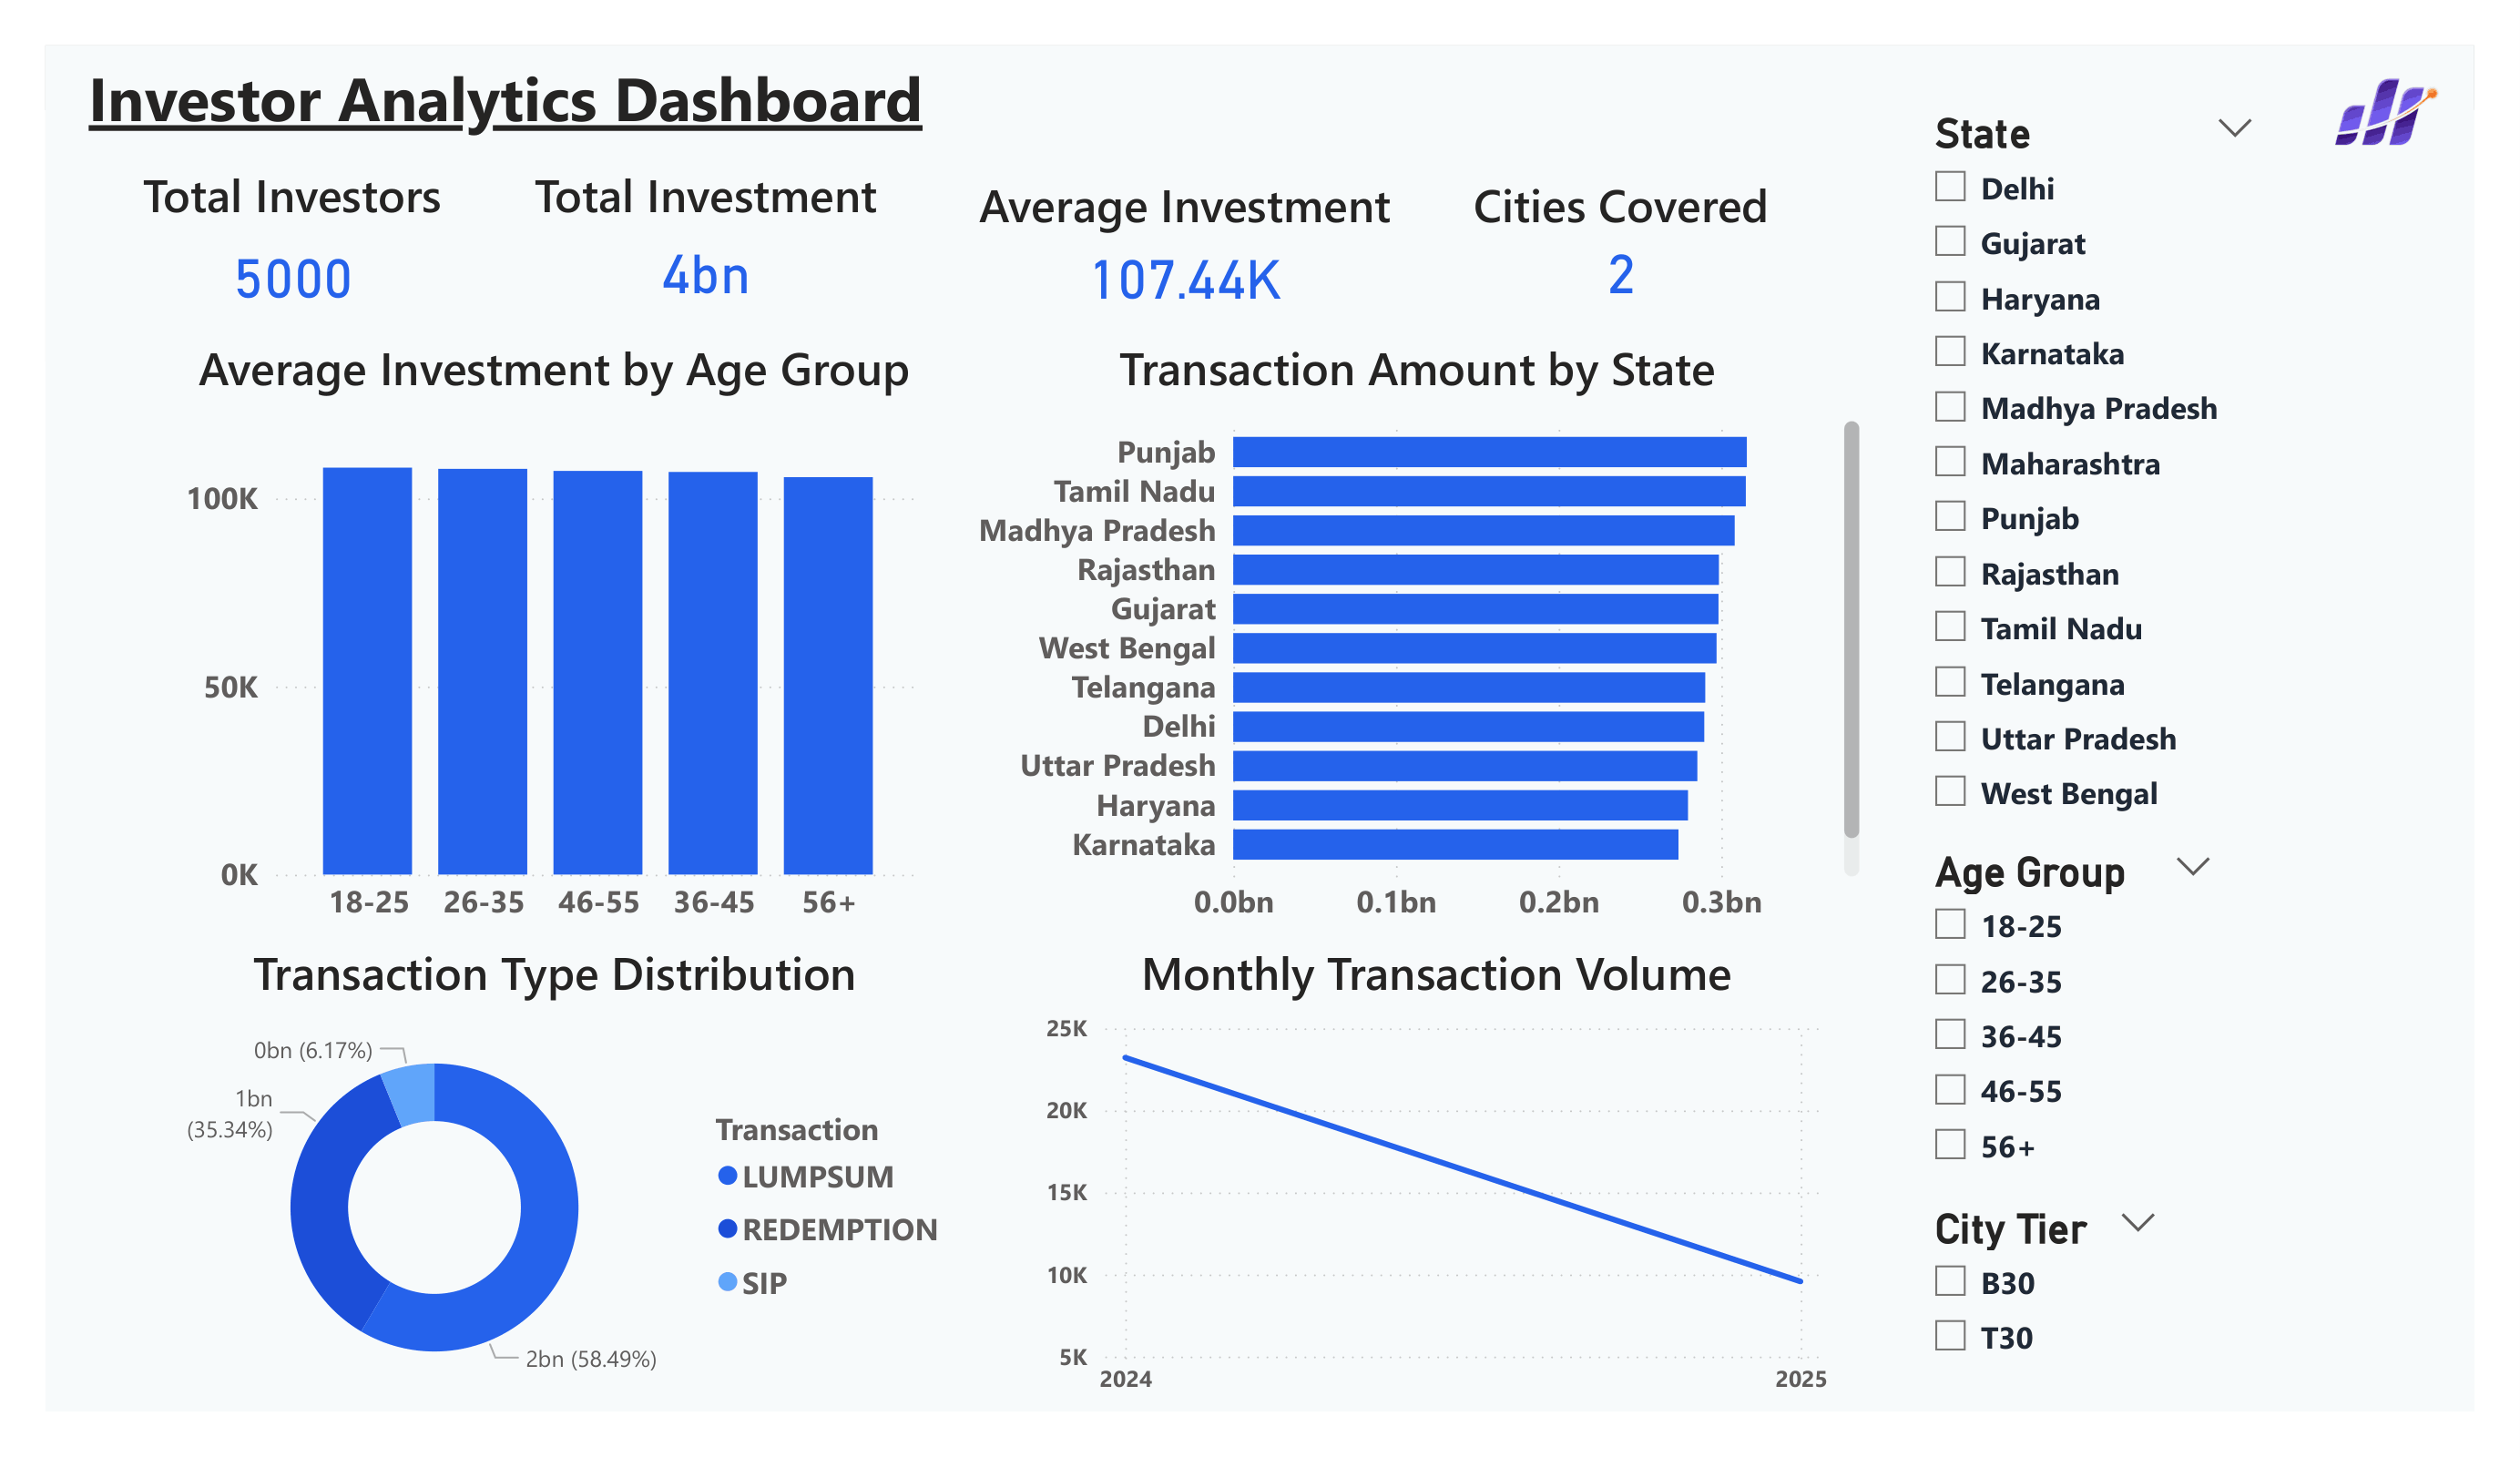

Layout of this report page (visuals, bound fields, positions):
{"tool":"powerbi","page":{"name":"Investor Analytics","canvas":[1280,720],"ordinal":2},"visuals":[{"type":"clusteredBarChart","title":"Transaction Amount by State","fields":{"Category":["08_investor_transactions_clean.state"],"Y":["Sum(08_investor_transactions_clean.amount_inr)"]},"box":[485.5,152.9,475.4,319.2],"z":0},{"type":"textbox","box":[0,0,485.5,55.4],"z":1000},{"type":"donutChart","title":"Transaction Type Distribution","fields":{"Category":["08_investor_transactions_clean.transaction_type"],"Y":["Sum(08_investor_transactions_clean.amount_inr)"]},"box":[52.1,472,433.4,248.6],"z":2000},{"type":"clusteredColumnChart","title":"Average Investment by Age Group","fields":{"Category":["08_investor_transactions_clean.age_group"],"Y":["Avg(08_investor_transactions_clean.amount_inr)"]},"box":[68.9,152.9,398.1,319.2],"z":3000},{"type":"lineChart","title":"Monthly Transaction Volume","fields":{"Category":["08_investor_transactions_clean.transaction_date.Variation.Date Hierarchy.Year","08_investor_transactions_clean.transaction_date.Variation.Date Hierarchy.Month"],"Y":["CountNonNull(08_investor_transactions_clean.investor_id)"]},"box":[522.4,472,421.6,248.6],"z":4000},{"type":"card","title":"Total Investors","fields":{"Values":["Count(08_investor_transactions_clean.investor_id)"]},"box":[35.3,62.2,189.8,85.7],"z":5000},{"type":"card","title":"Total Investment","fields":{"Values":["Sum(08_investor_transactions_clean.amount_inr)"]},"box":[243.6,62.2,208.3,80.6],"z":6000},{"type":"card","title":"Average Investment","fields":{"Values":["Avg(08_investor_transactions_clean.amount_inr)"]},"box":[477.1,67.2,246.9,77.3],"z":7000},{"type":"card","title":"Cities Covered","fields":{"Values":["Count(08_investor_transactions_clean.city_tier)"]},"box":[724,67.2,213.3,70.6],"z":8000},{"type":"slicer","fields":{"Values":["08_investor_transactions_clean.state"]},"box":[982.7,28.6,193.2,389.7],"z":9000},{"type":"slicer","fields":{"Values":["08_investor_transactions_clean.age_group"]},"box":[982.7,418.3,171.3,188.1],"z":10000},{"type":"slicer","fields":{"Values":["08_investor_transactions_clean.city_tier"]},"box":[982.7,606.4,142.8,102.5],"z":11000},{"type":"image","box":[1186.3,0,93.7,70.7],"z":11001}]}

Visuals, with their boxes on the page's 1280x720 design canvas (x1, y1, x2, y2). These are canvas units, not pixel positions in the 2520x1457 screenshot, which may show the page scaled, cropped or inside an application window:
"Transaction Amount by State" clusteredBarChart: pyautogui.locateOnScreen(486, 153, 961, 472)
textbox: pyautogui.locateOnScreen(0, 0, 486, 55)
"Transaction Type Distribution" donutChart: pyautogui.locateOnScreen(52, 472, 486, 721)
"Average Investment by Age Group" clusteredColumnChart: pyautogui.locateOnScreen(69, 153, 467, 472)
"Monthly Transaction Volume" lineChart: pyautogui.locateOnScreen(522, 472, 944, 721)
"Total Investors" card: pyautogui.locateOnScreen(35, 62, 225, 148)
"Total Investment" card: pyautogui.locateOnScreen(244, 62, 452, 143)
"Average Investment" card: pyautogui.locateOnScreen(477, 67, 724, 144)
"Cities Covered" card: pyautogui.locateOnScreen(724, 67, 937, 138)
slicer - 08_investor_transactions_clean.state: pyautogui.locateOnScreen(983, 29, 1176, 418)
slicer - 08_investor_transactions_clean.age_group: pyautogui.locateOnScreen(983, 418, 1154, 606)
slicer - 08_investor_transactions_clean.city_tier: pyautogui.locateOnScreen(983, 606, 1126, 709)
image: pyautogui.locateOnScreen(1186, 0, 1280, 71)
